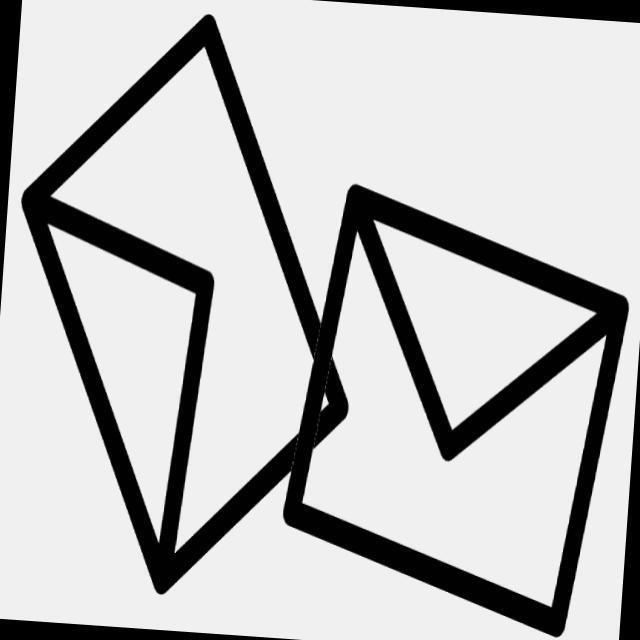letter: (11, 1, 365, 614), (272, 168, 638, 640)
